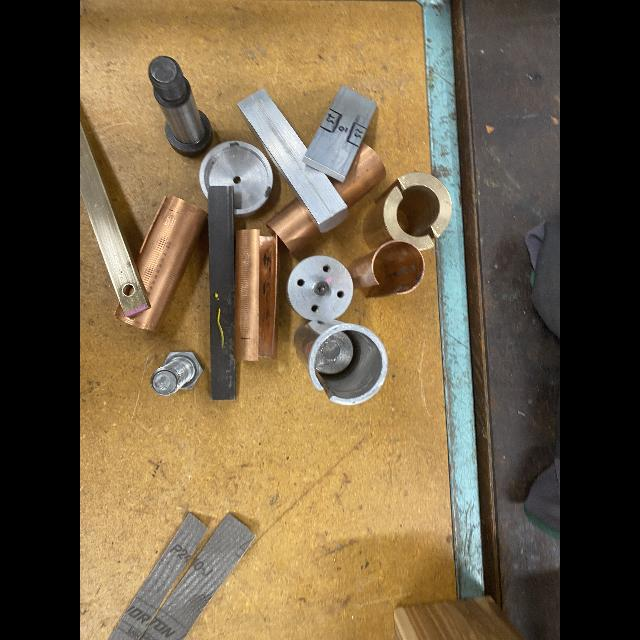Aluminium: (237, 88, 347, 233), (296, 320, 388, 404), (302, 86, 378, 183), (200, 141, 271, 213), (286, 256, 352, 320)
Brass: (80, 121, 151, 317), (364, 173, 452, 250)
Copper: (114, 196, 209, 332), (234, 229, 278, 360), (349, 241, 424, 296), (330, 144, 386, 206), (266, 197, 321, 253)
Ferrous Metal: (149, 56, 211, 155), (209, 186, 236, 400), (151, 351, 203, 395), (315, 332, 352, 373), (315, 284, 326, 293)
